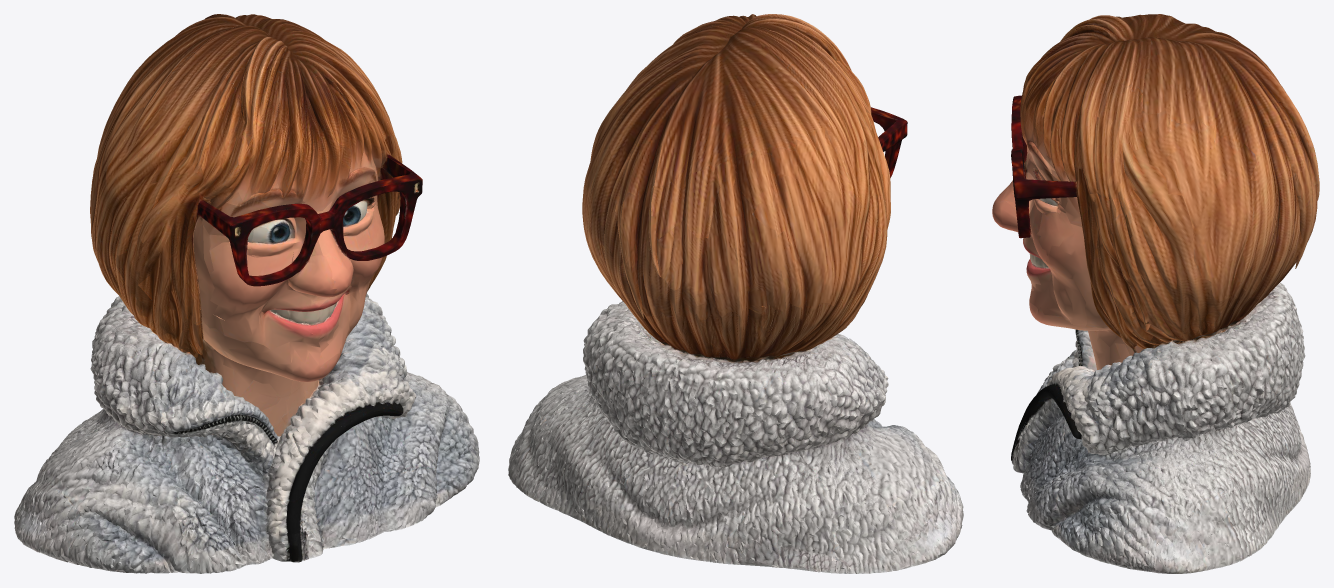
File: avatar-standard.glb
The picture shows the model from 3 angles, left to right: view 1: azimuth 30°, elevation 25°; view 2: azimuth 150°, elevation 25°; view 3: azimuth 270°, elevation 25°; orthographic projection. The views are drawn at different scales.
Parts seen in each view (by area): view 1: Mesh_0; view 2: Mesh_0; view 3: Mesh_0.
Part boxes in pixels (<box>): Mesh_0: <box>14,14,479,573</box>; Mesh_0: <box>508,14,963,573</box>; Mesh_0: <box>992,14,1319,573</box>.
Size of the model in its own units: 0.5822 by 0.6 by 0.395.
Materials: 1 (1 with a texture image).
